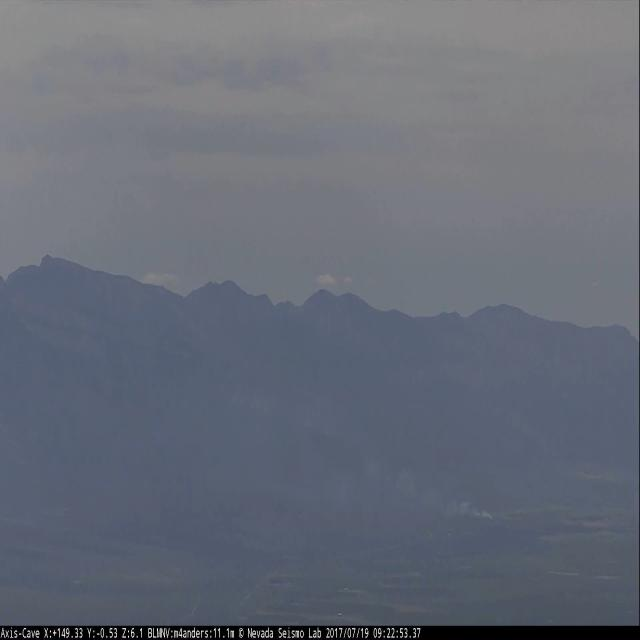smoke: (397, 466, 494, 520)
